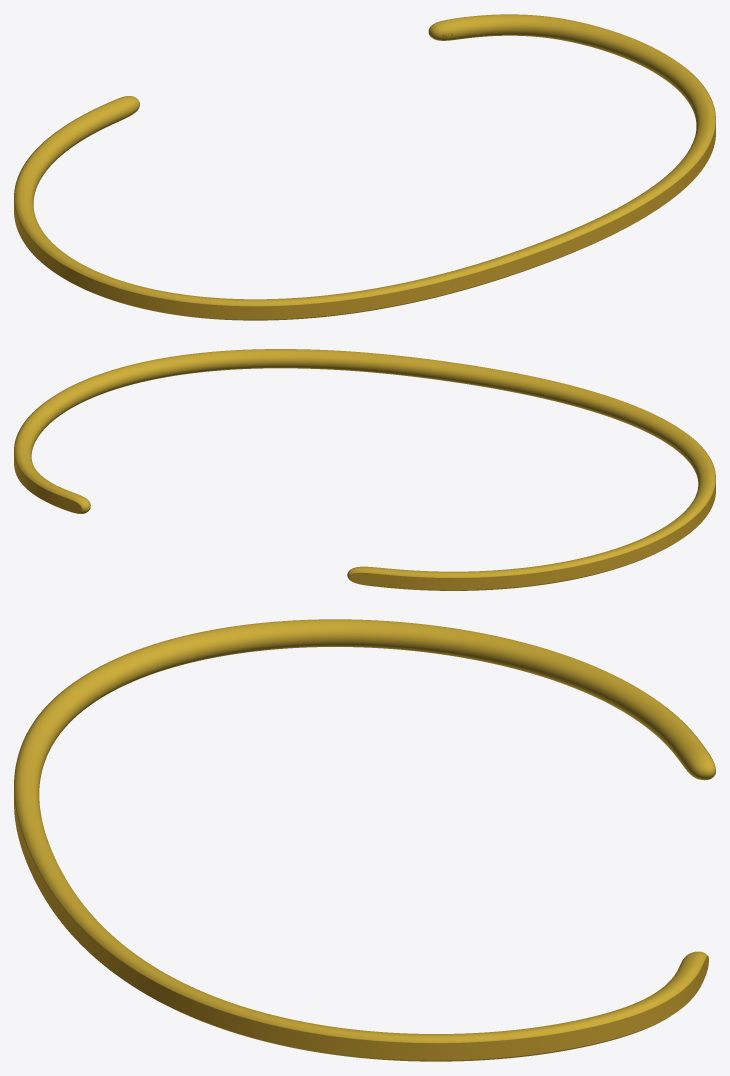
The model's file is shimada-bold-test0212.glb.
The picture shows the model from 3 angles, top to bottom: view 1: azimuth 30°, elevation 25°; view 2: azimuth 150°, elevation 25°; view 3: azimuth 270°, elevation 25°; orthographic projection. The views are drawn at different scales.
Parts seen in each view (by area): view 1: lightbody, lightomote; view 2: lightbody, lightomote; view 3: lightbody, lightomote.
Boxes of the visible parts, x1,y1,x2,y2 form: lightbody: (14, 14, 715, 320); lightomote: (14, 67, 715, 319); lightbody: (14, 349, 715, 590); lightomote: (14, 406, 715, 590); lightbody: (14, 619, 715, 1061); lightomote: (14, 689, 715, 1060).
Size of the model in its own units: 3.4 by 0.0938 by 2.39.
2 materials, 2 textured.
